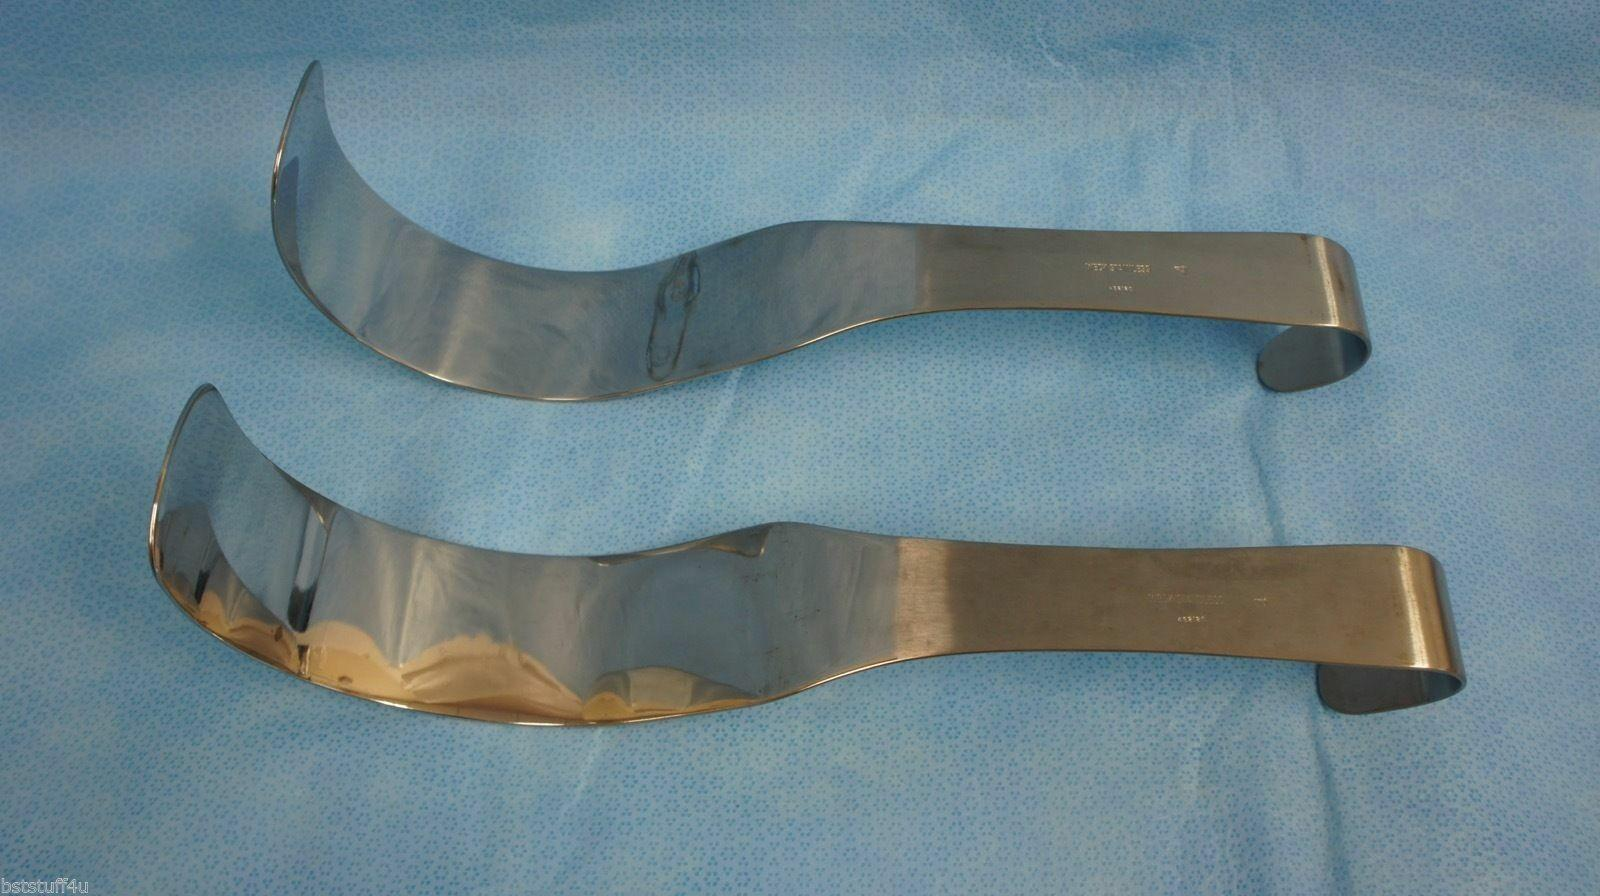Deaver Retractor: (133, 383, 1469, 743), (259, 56, 1380, 404)
